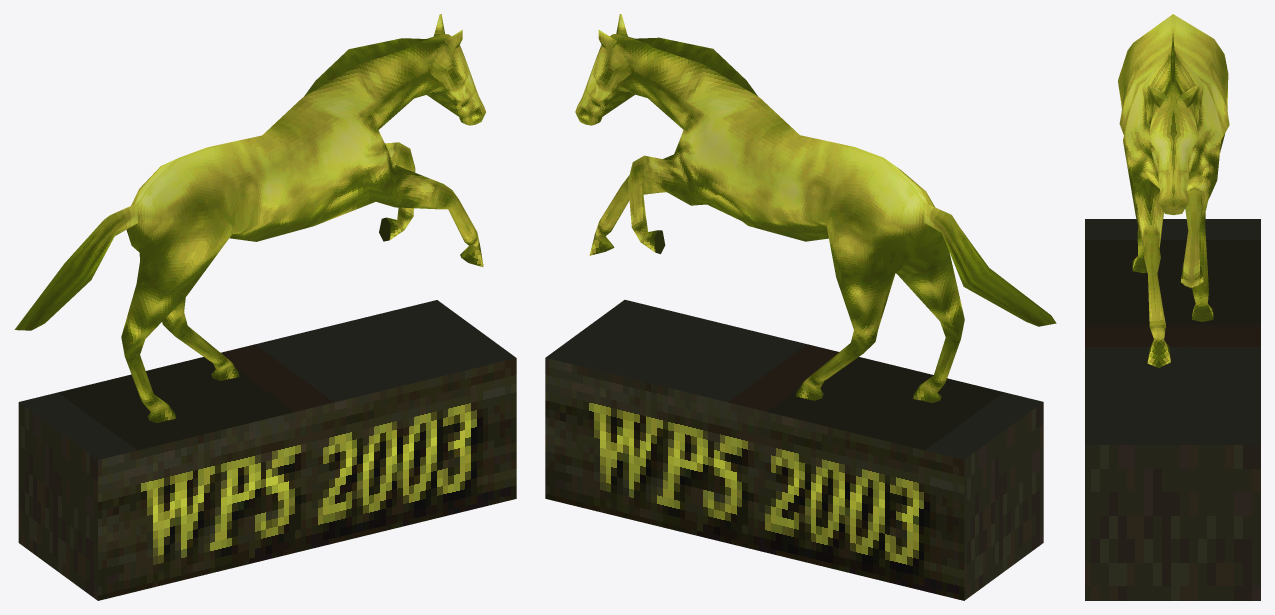
File: ps2_save-icons_winningpost5maximum2003-horsederby.glb
3 renders of one model, left to right at view 1: azimuth 30°, elevation 25°; view 2: azimuth 150°, elevation 25°; view 3: azimuth 270°, elevation 25°, orthographic. The views are drawn at different scales.
Parts seen in each view (by area): view 1: ic_taisen.icn; view 2: ic_taisen.icn; view 3: ic_taisen.icn.
Part boxes in pixels (x1,y1,x2,y2): ic_taisen.icn: (14,14,516,600); ic_taisen.icn: (545,14,1056,600); ic_taisen.icn: (1085,14,1260,600).
Size of the model in its own units: 4.95 by 4.52 by 1.43.
1 material, 1 textured.
